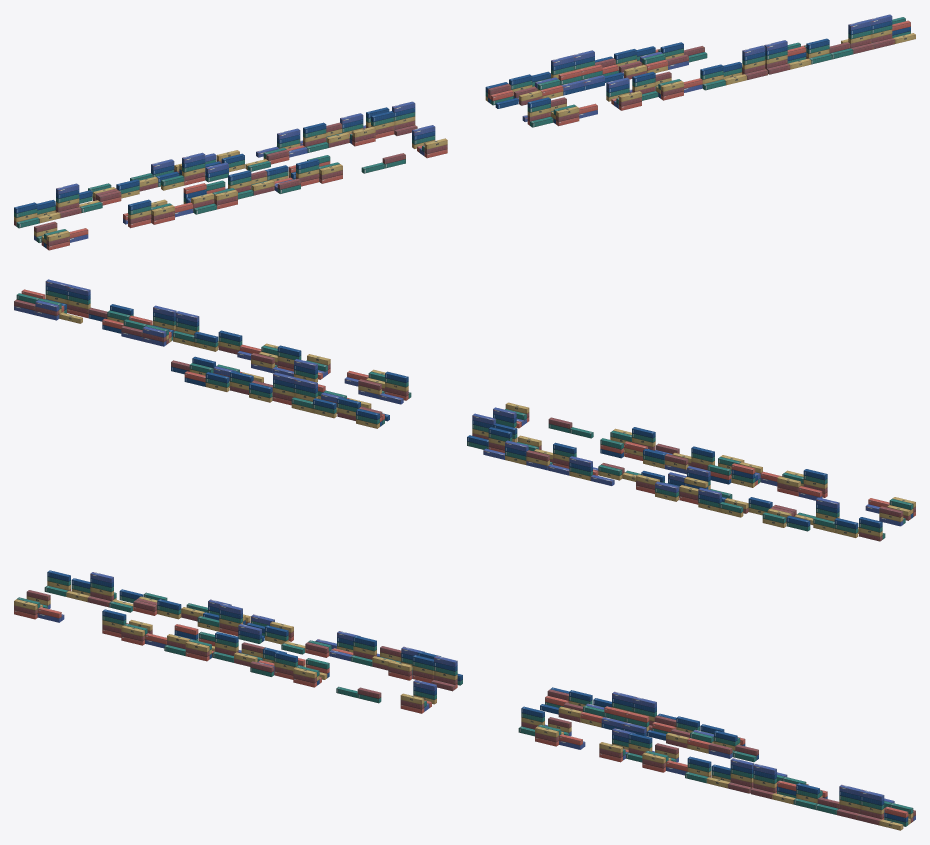
The model's file is chaoxianxiang.FBX.
3 views of the same model, one above another, from view 1: azimuth 30°, elevation 25°; view 2: azimuth 150°, elevation 25°; view 3: azimuth 330°, elevation 25° (orthographic). The views are drawn at different scales.
Visible parts, largest first — view 1: 超限箱堆场区域集装箱; view 2: 超限箱堆场区域集装箱; view 3: 超限箱堆场区域集装箱.
Part boxes in pixels (left/top/right/bottom): 超限箱堆场区域集装箱: left=14, top=14, right=915, bottom=250; 超限箱堆场区域集装箱: left=14, top=279, right=915, bottom=541; 超限箱堆场区域集装箱: left=14, top=570, right=915, bottom=830.
Size of the model in its own units: 50749 by 1463 by 4573.
